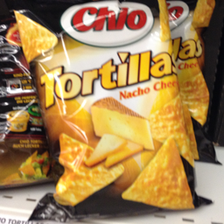chips: (14, 2, 207, 217)
